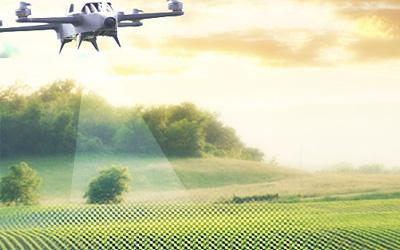drone: (1, 1, 186, 47)
